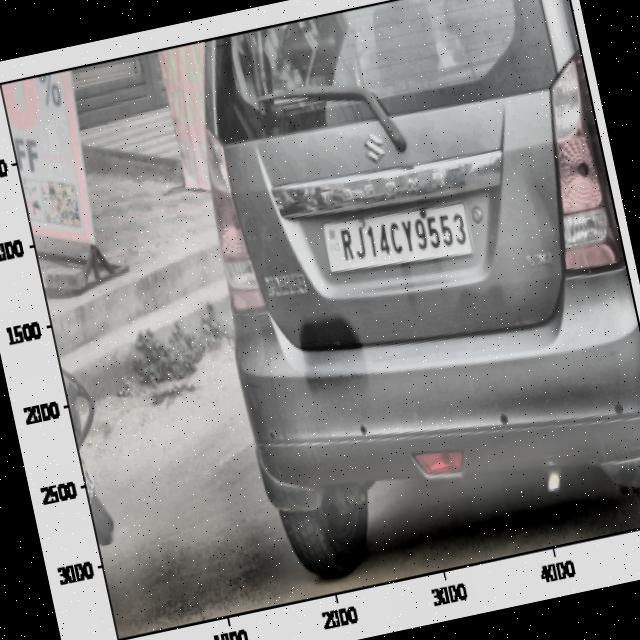license_plate: (332, 196, 473, 282)
